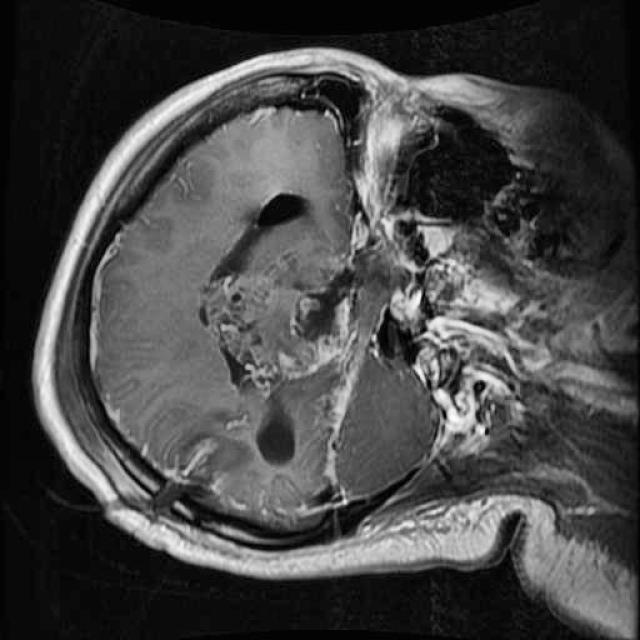Tumor: (188, 264, 370, 397)
